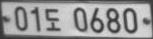0: (14, 5, 29, 32), (123, 7, 138, 34), (73, 6, 88, 32)
1: (30, 5, 42, 32)
6: (89, 7, 104, 33)
8: (105, 7, 121, 34)
도: (44, 7, 61, 33)
